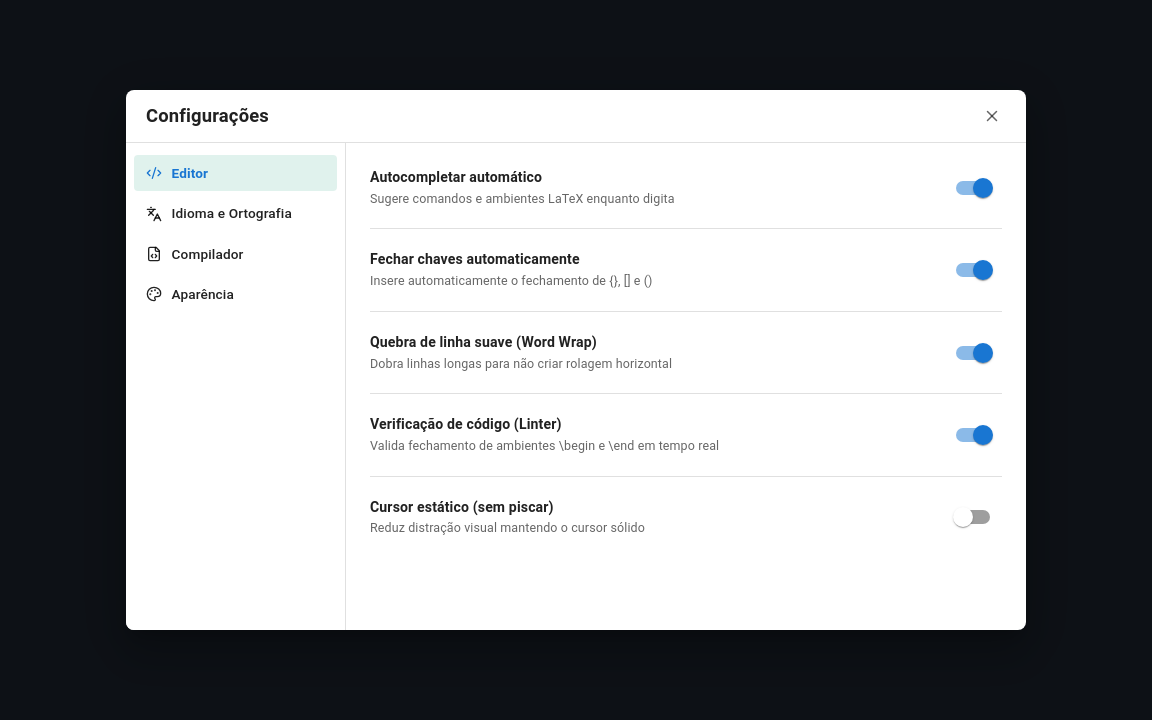
SettingsModal Component › should switch to compiler tab and display compiler options
The image size is (1152, 720).
Click the button "Compilador".
click(236, 254)  # box [134, 236, 337, 272]
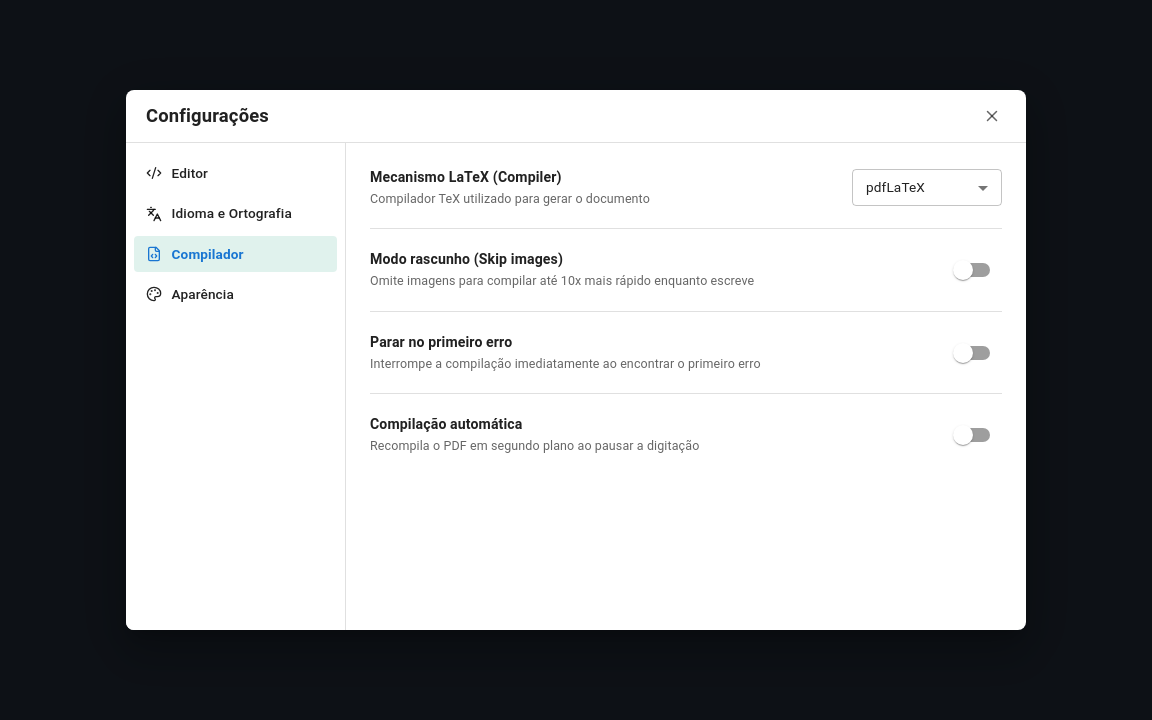
Check: the text "Mecanismo LaTeX (Compiler)" is shown, box [370, 169, 562, 185]
Check: the text "Modo rascunho (Skip images)" is shown, box [370, 251, 563, 267]
Check: the text "Parar no primeiro erro" is shown, box [370, 334, 512, 350]
